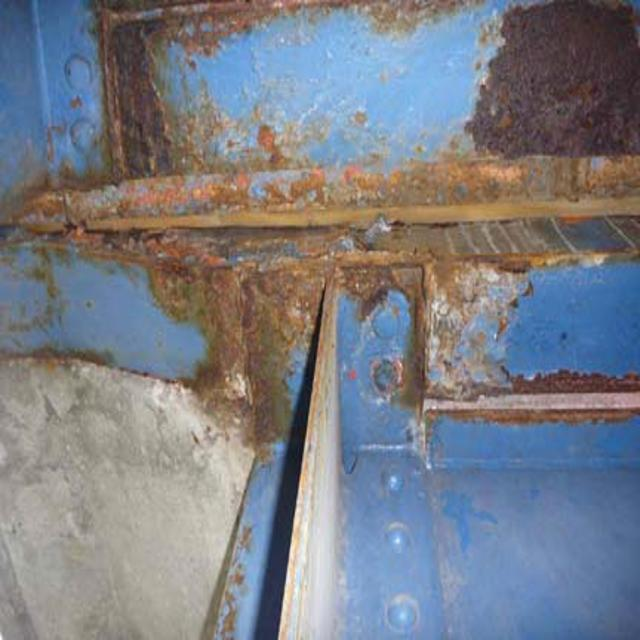corrosion: (17, 17, 639, 429)
